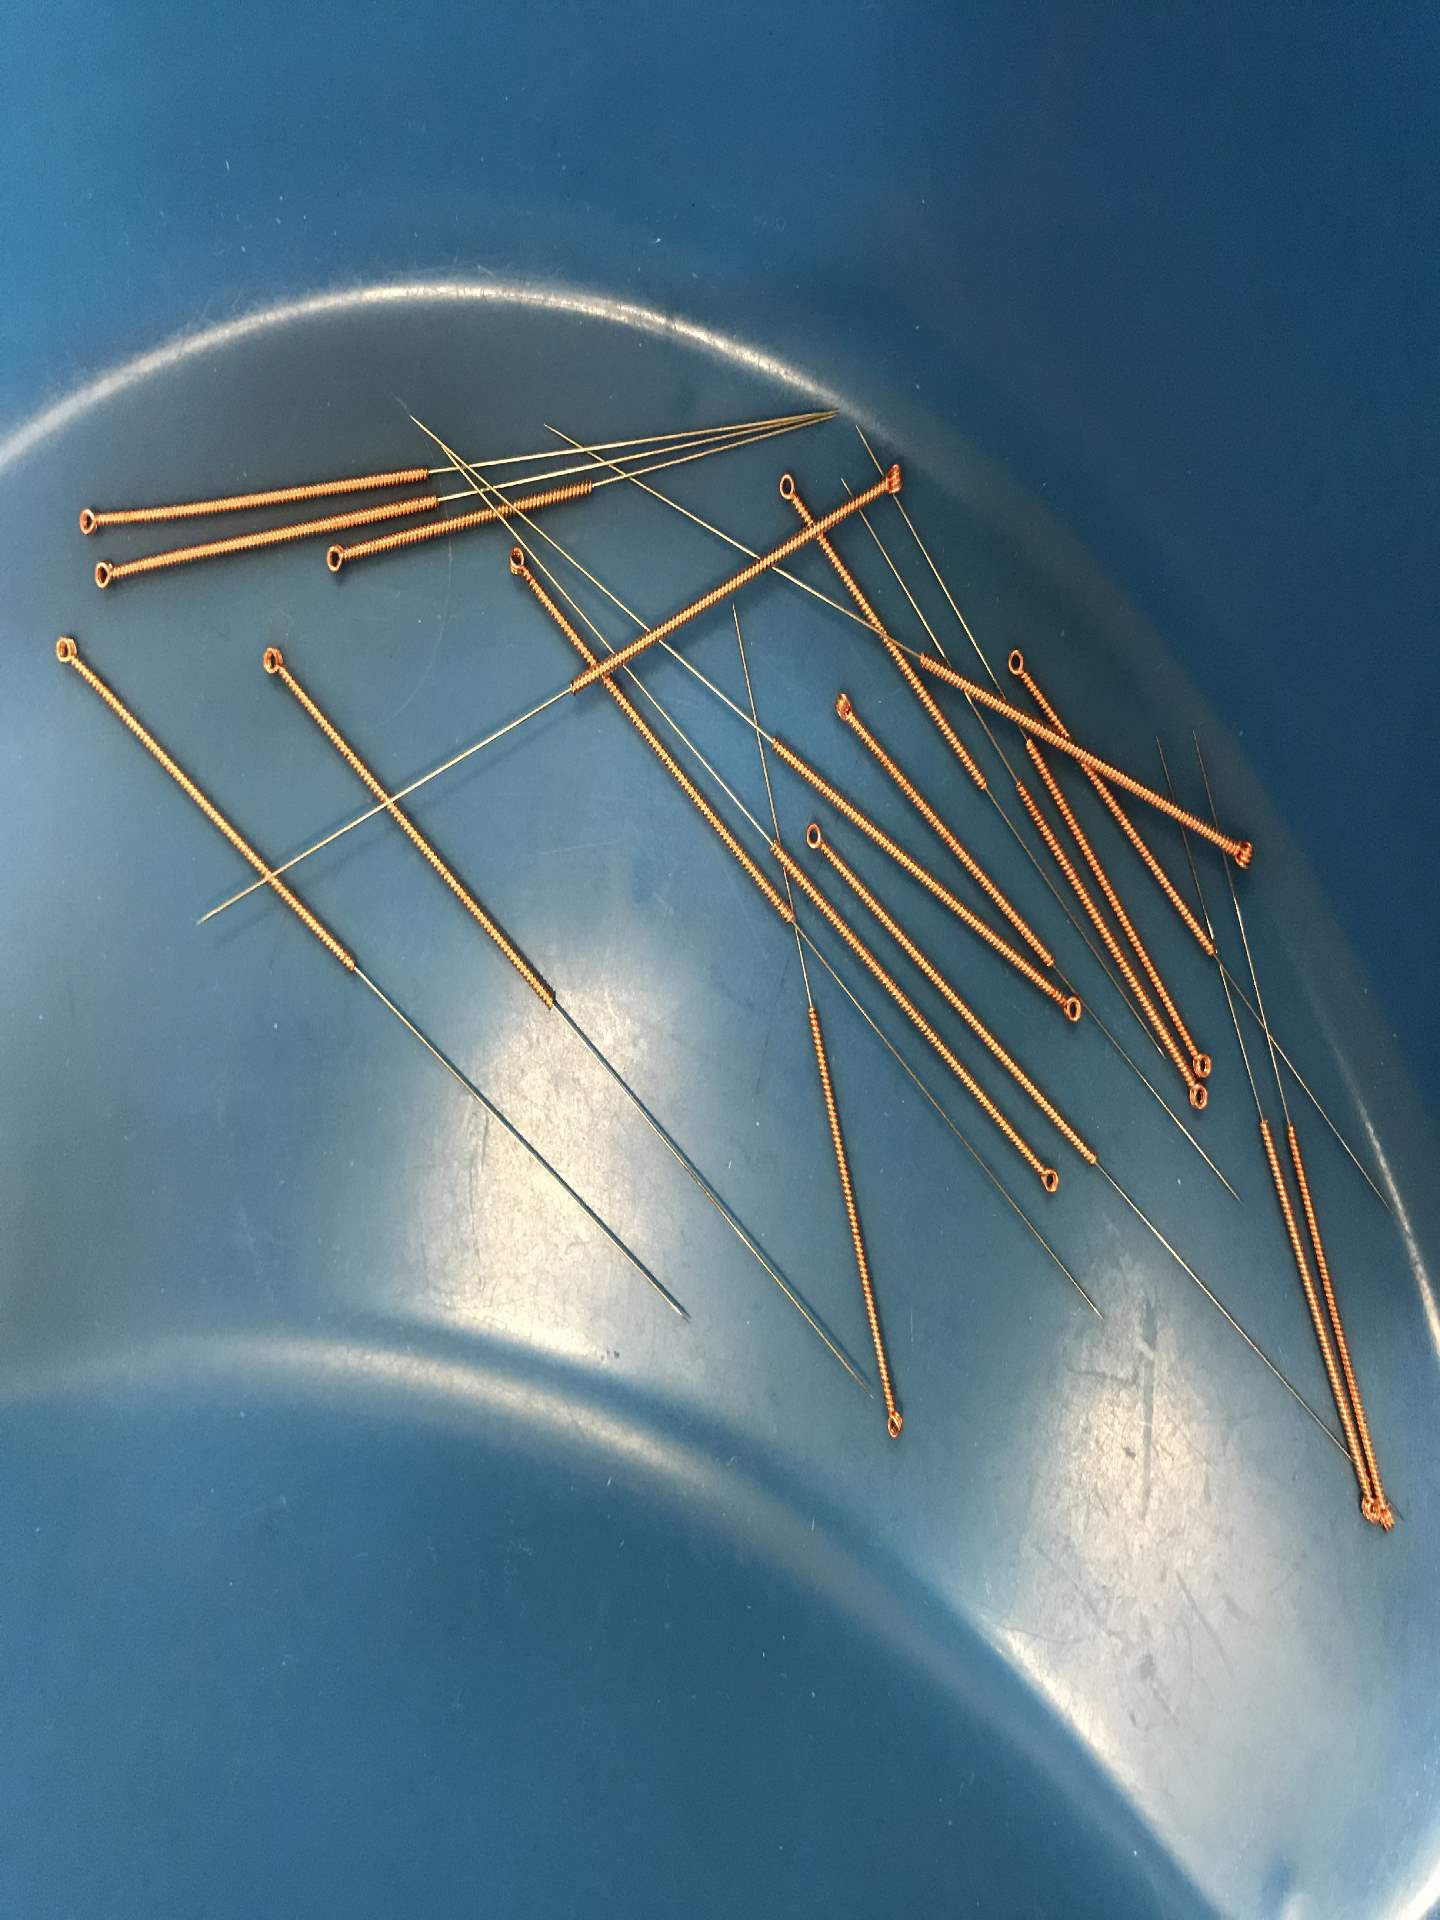needle: (824, 682, 865, 735), (867, 455, 911, 503), (253, 636, 293, 688), (498, 538, 538, 590), (85, 550, 126, 599), (1224, 827, 1262, 878), (998, 641, 1038, 688), (315, 538, 355, 582), (45, 627, 85, 673), (1029, 1155, 1066, 1202), (67, 497, 107, 540), (1050, 986, 1088, 1031), (771, 464, 808, 511), (876, 1395, 909, 1445), (796, 815, 833, 859), (1189, 1037, 1218, 1081), (1354, 1485, 1381, 1530), (1178, 1076, 1212, 1113), (1378, 1498, 1398, 1541)
